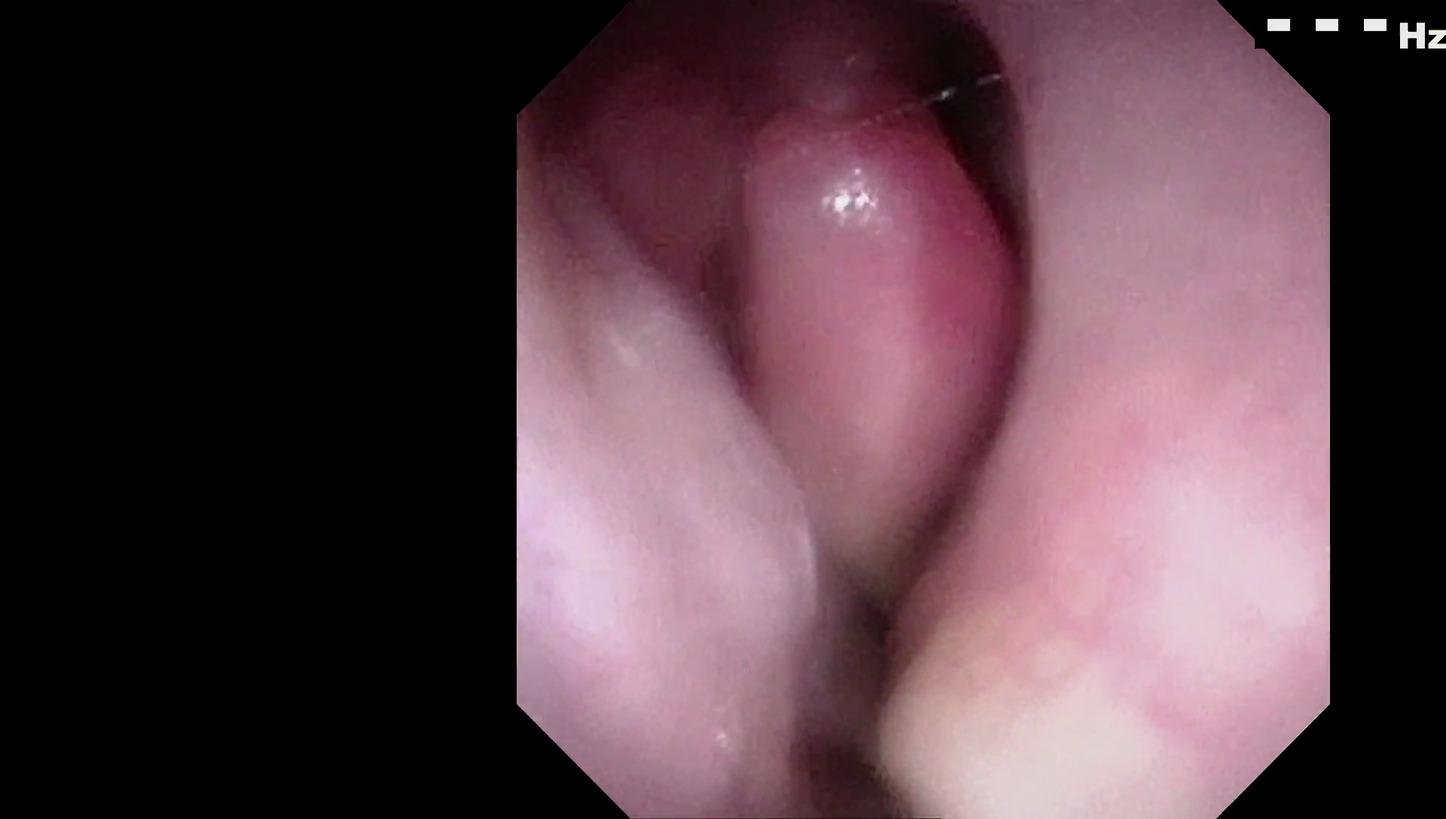close_wall: (888, 322, 1320, 806), (538, 263, 797, 689)
next: (775, 514, 953, 819), (876, 2, 1041, 266)
